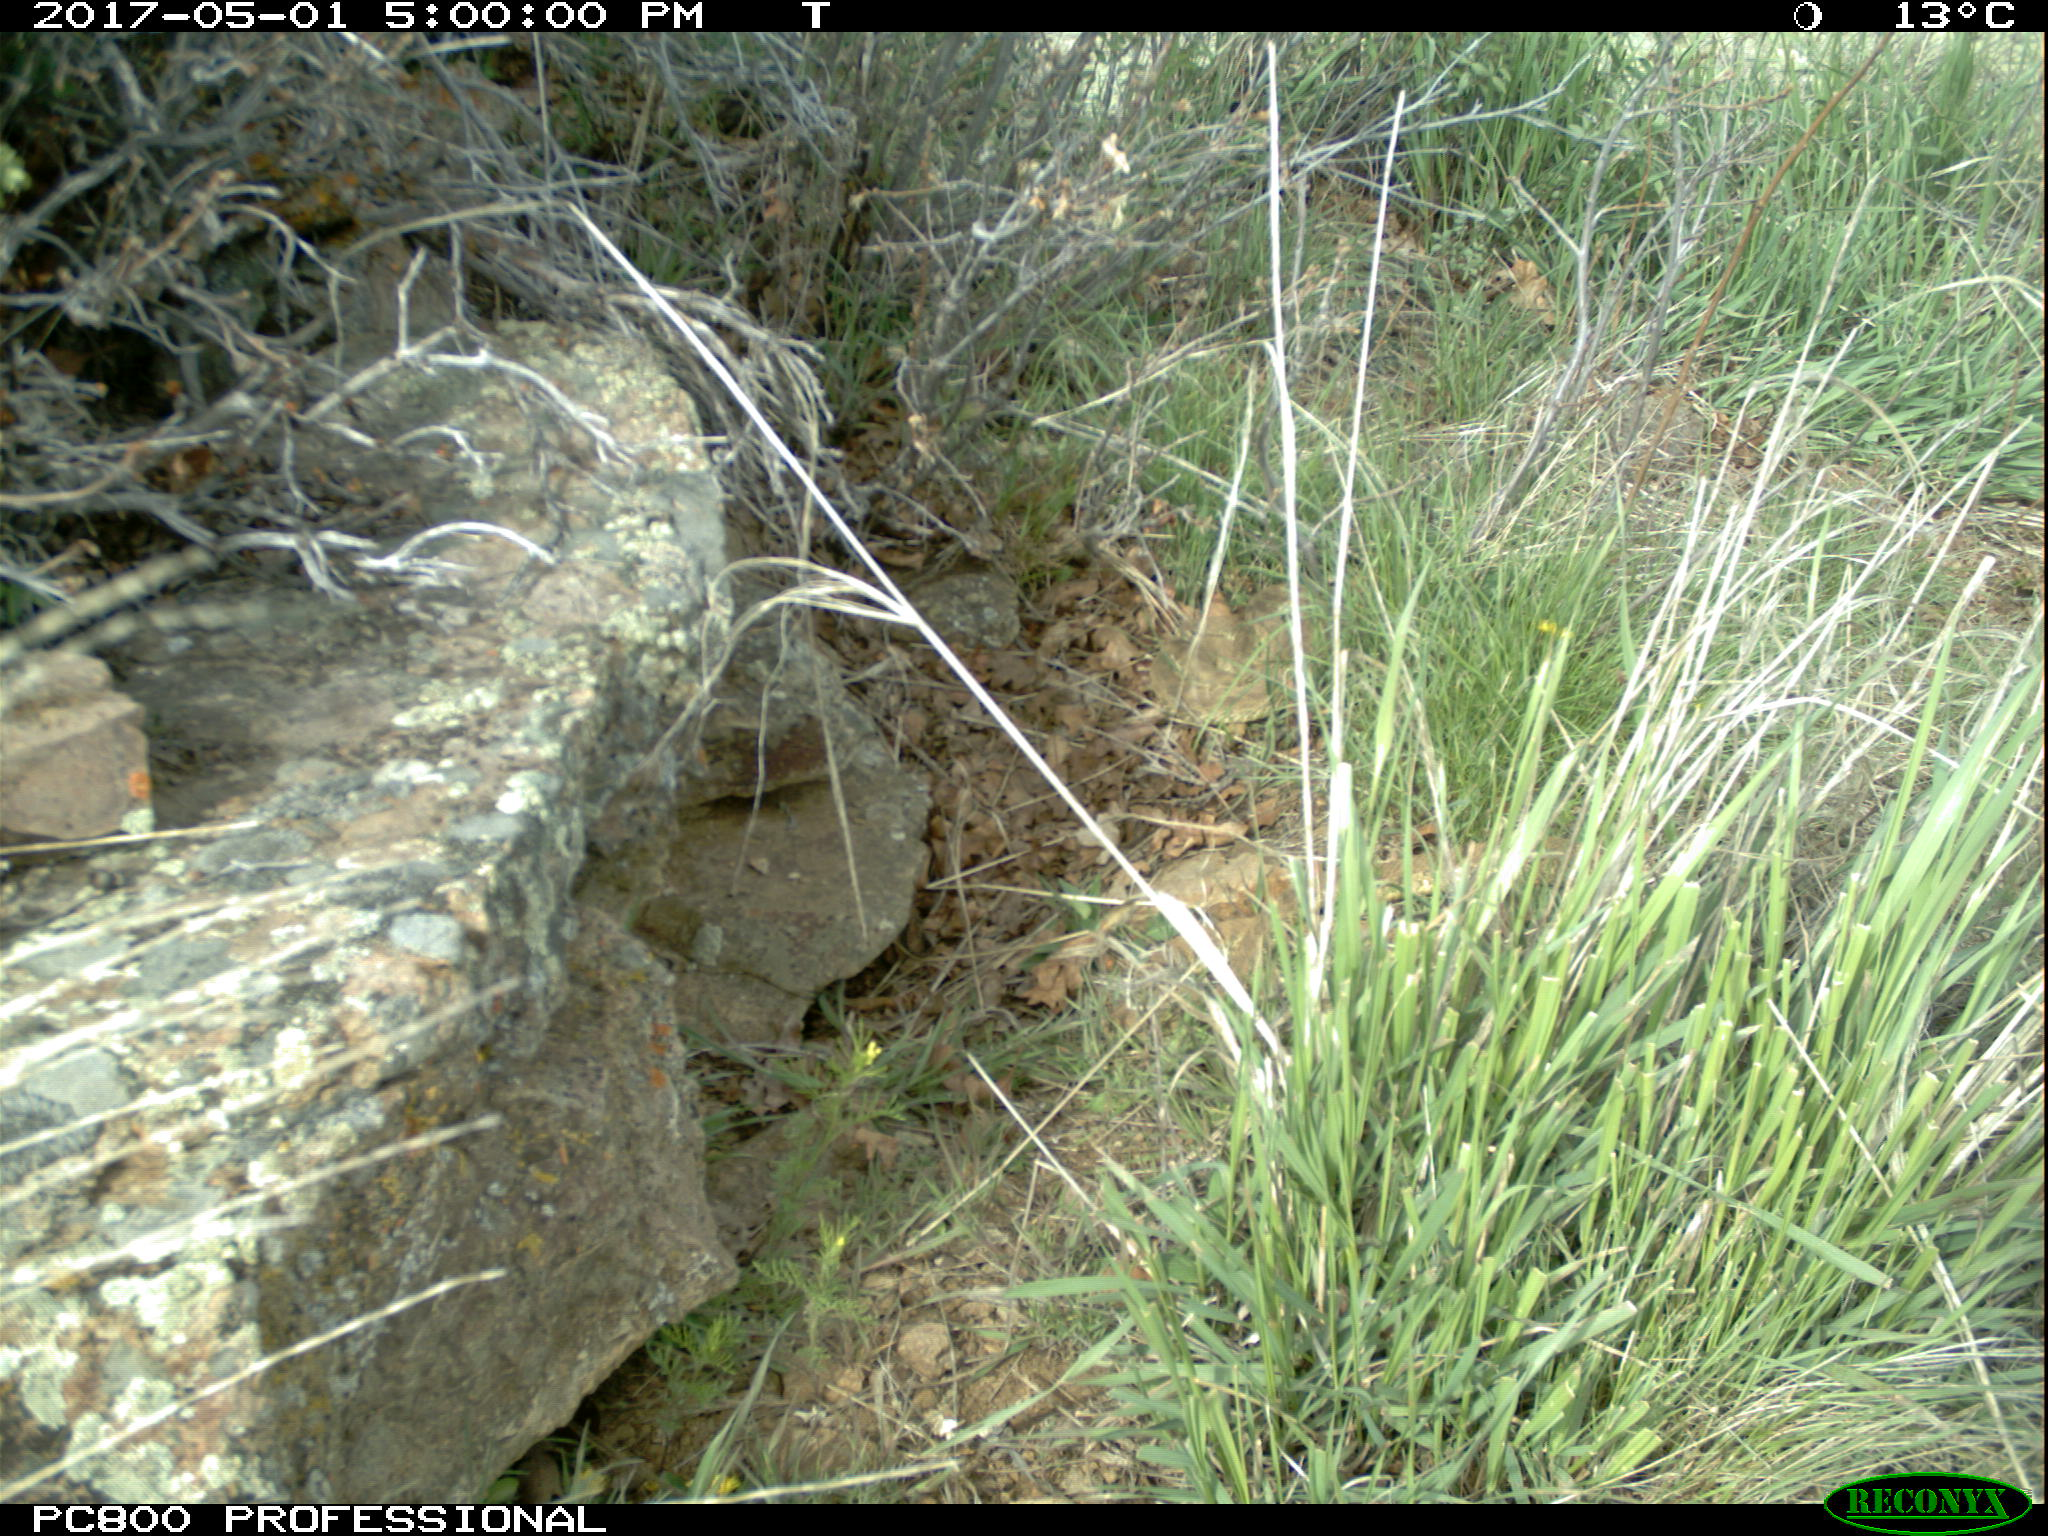snake: (1151, 587, 1326, 724)
